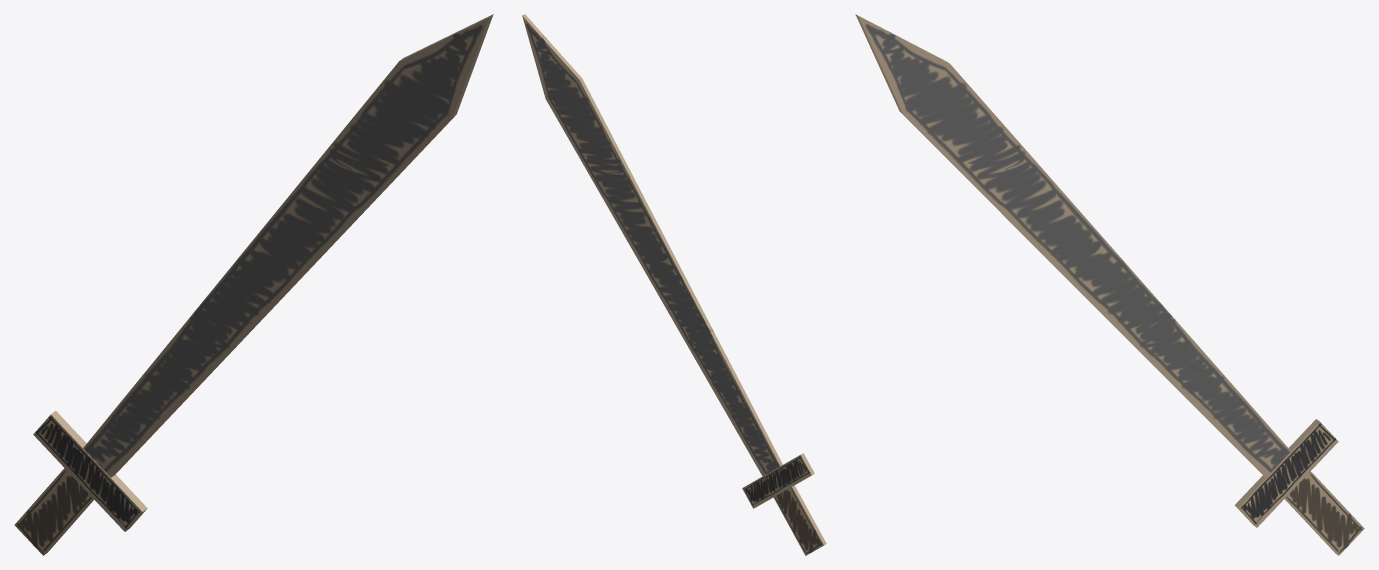
File: PERUNSWORD1.glb
3 views of the same model, side by side, from view 1: azimuth 30°, elevation 25°; view 2: azimuth 210°, elevation 25°; view 3: azimuth 270°, elevation 25° (orthographic). The views are drawn at different scales.
Parts seen in each view (by area): view 1: Cube.036; view 2: Cube.036; view 3: Cube.036.
Boxes of the visible parts, x1=… form: Cube.036: x1=14, y1=14, x2=493, y2=555; Cube.036: x1=522, y1=14, x2=826, y2=555; Cube.036: x1=855, y1=14, x2=1364, y2=555.
Bounding box in the file's own units: 0.5372 × 1.83 × 1.37.
1 material, 1 textured.
